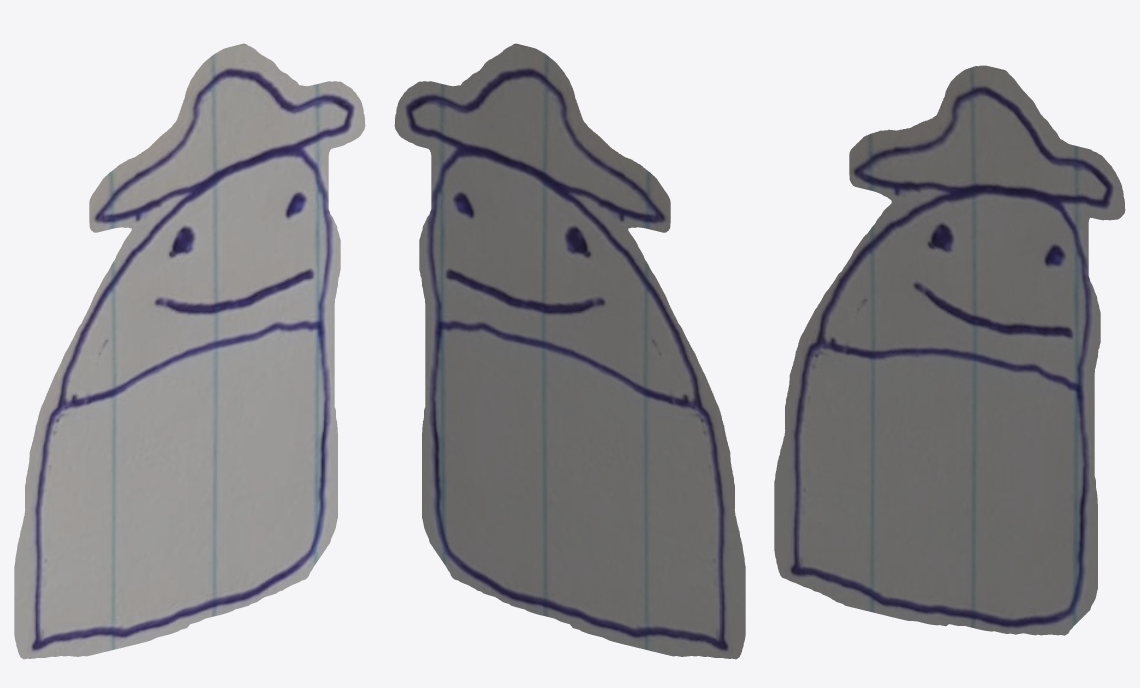
The model's file is charbody.fbx.
The picture shows the model from 3 angles, left to right: view 1: azimuth 30°, elevation 25°; view 2: azimuth 150°, elevation 25°; view 3: azimuth 330°, elevation 25°; orthographic projection.
Parts seen in each view (by area): view 1: Plane; view 2: Plane; view 3: Plane.
Part boxes in pixels (<box>): Plane: <box>14,43,365,659</box>; Plane: <box>394,43,745,659</box>; Plane: <box>774,65,1125,635</box>.
Bounding box in the file's own units: 400 × 625 × 2.2.
Materials: 1 (1 with a texture image).
